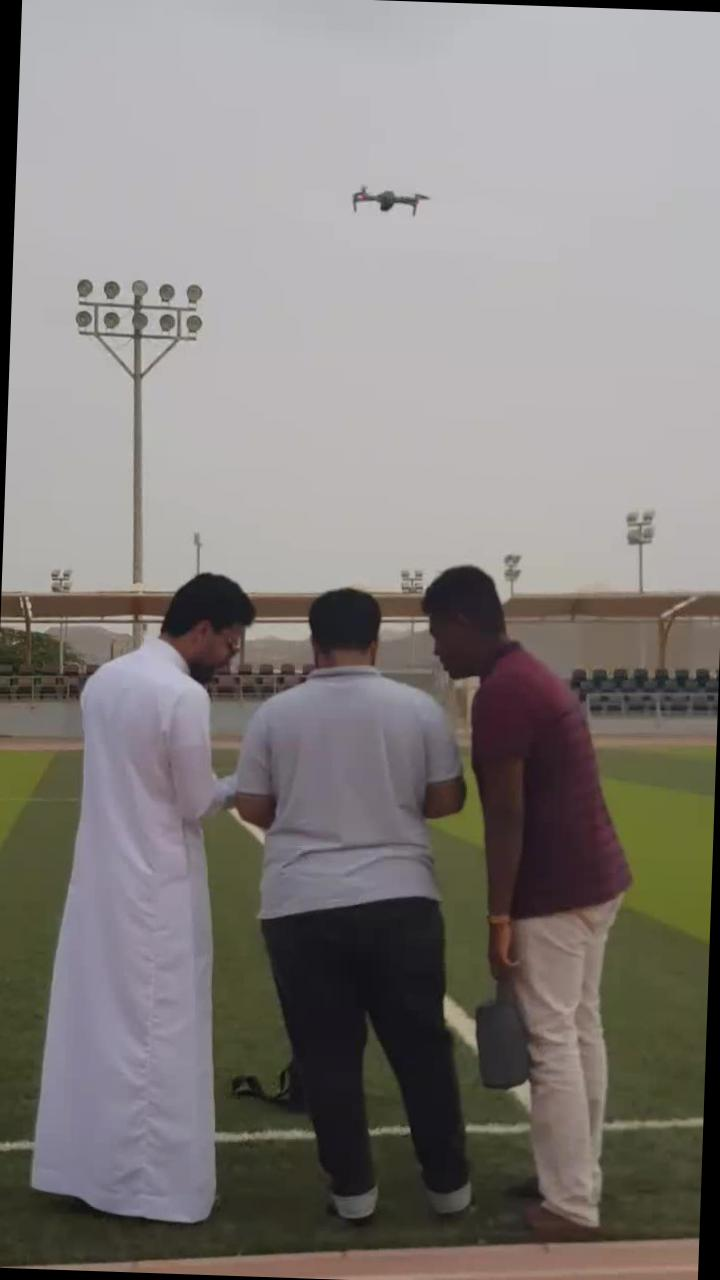drone: (336, 167, 436, 233)
